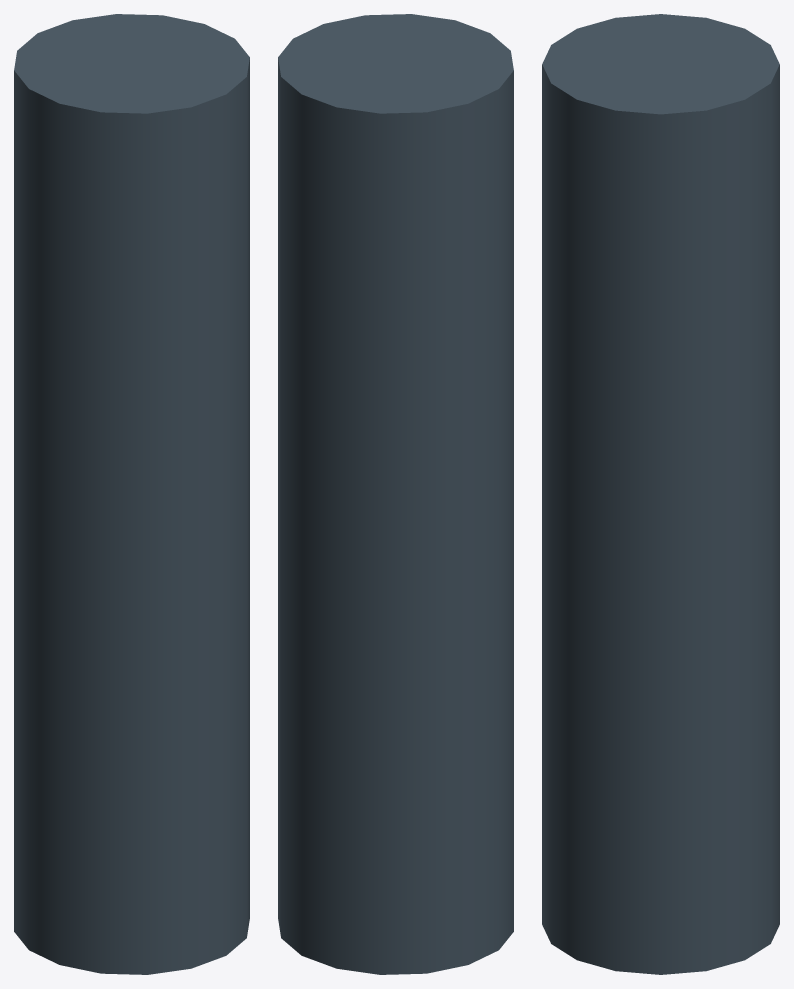
File: TableLeg6.fbx
3 renders of one model, left to right at view 1: azimuth 30°, elevation 25°; view 2: azimuth 150°, elevation 25°; view 3: azimuth 270°, elevation 25°, orthographic.
Visible parts, largest first — view 1: TableLeg6; view 2: TableLeg6; view 3: TableLeg6.
Boxes of the visible parts, x1,y1,x2,y2 form: TableLeg6: (14,14,249,974); TableLeg6: (278,14,513,974); TableLeg6: (542,14,779,974).
Size of the model in its own units: 0.1985 by 0.7932 by 0.1985.
